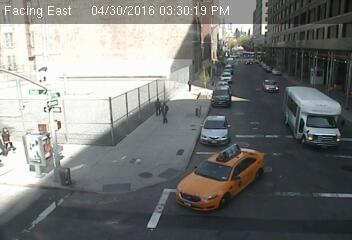neg: (163, 24, 186, 54), (211, 38, 232, 66), (260, 144, 281, 172), (35, 142, 55, 167), (210, 80, 229, 105), (330, 103, 349, 128), (166, 142, 185, 166), (212, 193, 230, 217), (77, 131, 94, 154), (297, 48, 314, 71), (280, 79, 297, 101), (240, 47, 256, 68), (101, 17, 116, 37), (143, 151, 158, 171), (116, 161, 131, 181), (304, 152, 319, 172), (105, 88, 120, 107), (81, 57, 94, 76), (126, 49, 140, 66), (219, 144, 232, 162), (196, 122, 209, 139), (316, 127, 327, 142), (134, 212, 145, 226), (81, 198, 91, 212), (245, 92, 255, 105), (139, 141, 149, 154), (255, 103, 264, 115), (289, 35, 298, 46)
pos: (155, 100, 173, 124), (150, 95, 167, 117), (181, 78, 197, 99)
